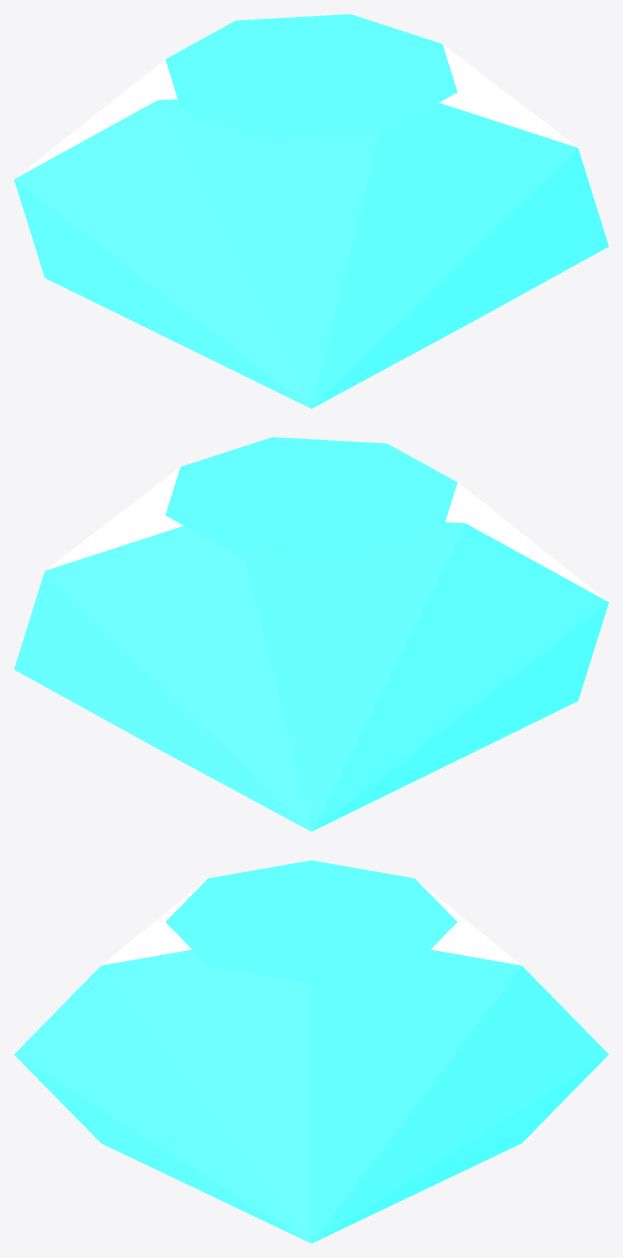
File: diamond.glb
3 renders of one model, top to bottom at view 1: azimuth 30°, elevation 25°; view 2: azimuth 150°, elevation 25°; view 3: azimuth 270°, elevation 25°, orthographic. The views are drawn at different scales.
Visible parts, largest first — view 1: Brilliant eight-sided diamond; view 2: Brilliant eight-sided diamond; view 3: Brilliant eight-sided diamond.
Part boxes in pixels (<box>): Brilliant eight-sided diamond: <box>14,14,608,408</box>; Brilliant eight-sided diamond: <box>14,437,608,831</box>; Brilliant eight-sided diamond: <box>14,860,608,1243</box>.
Size of the model in its own units: 1.14 by 0.68 by 1.14.
